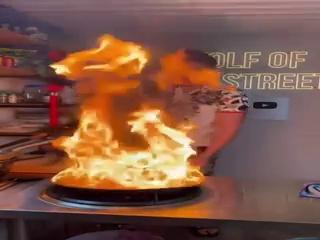Fire: (51, 38, 216, 186)
